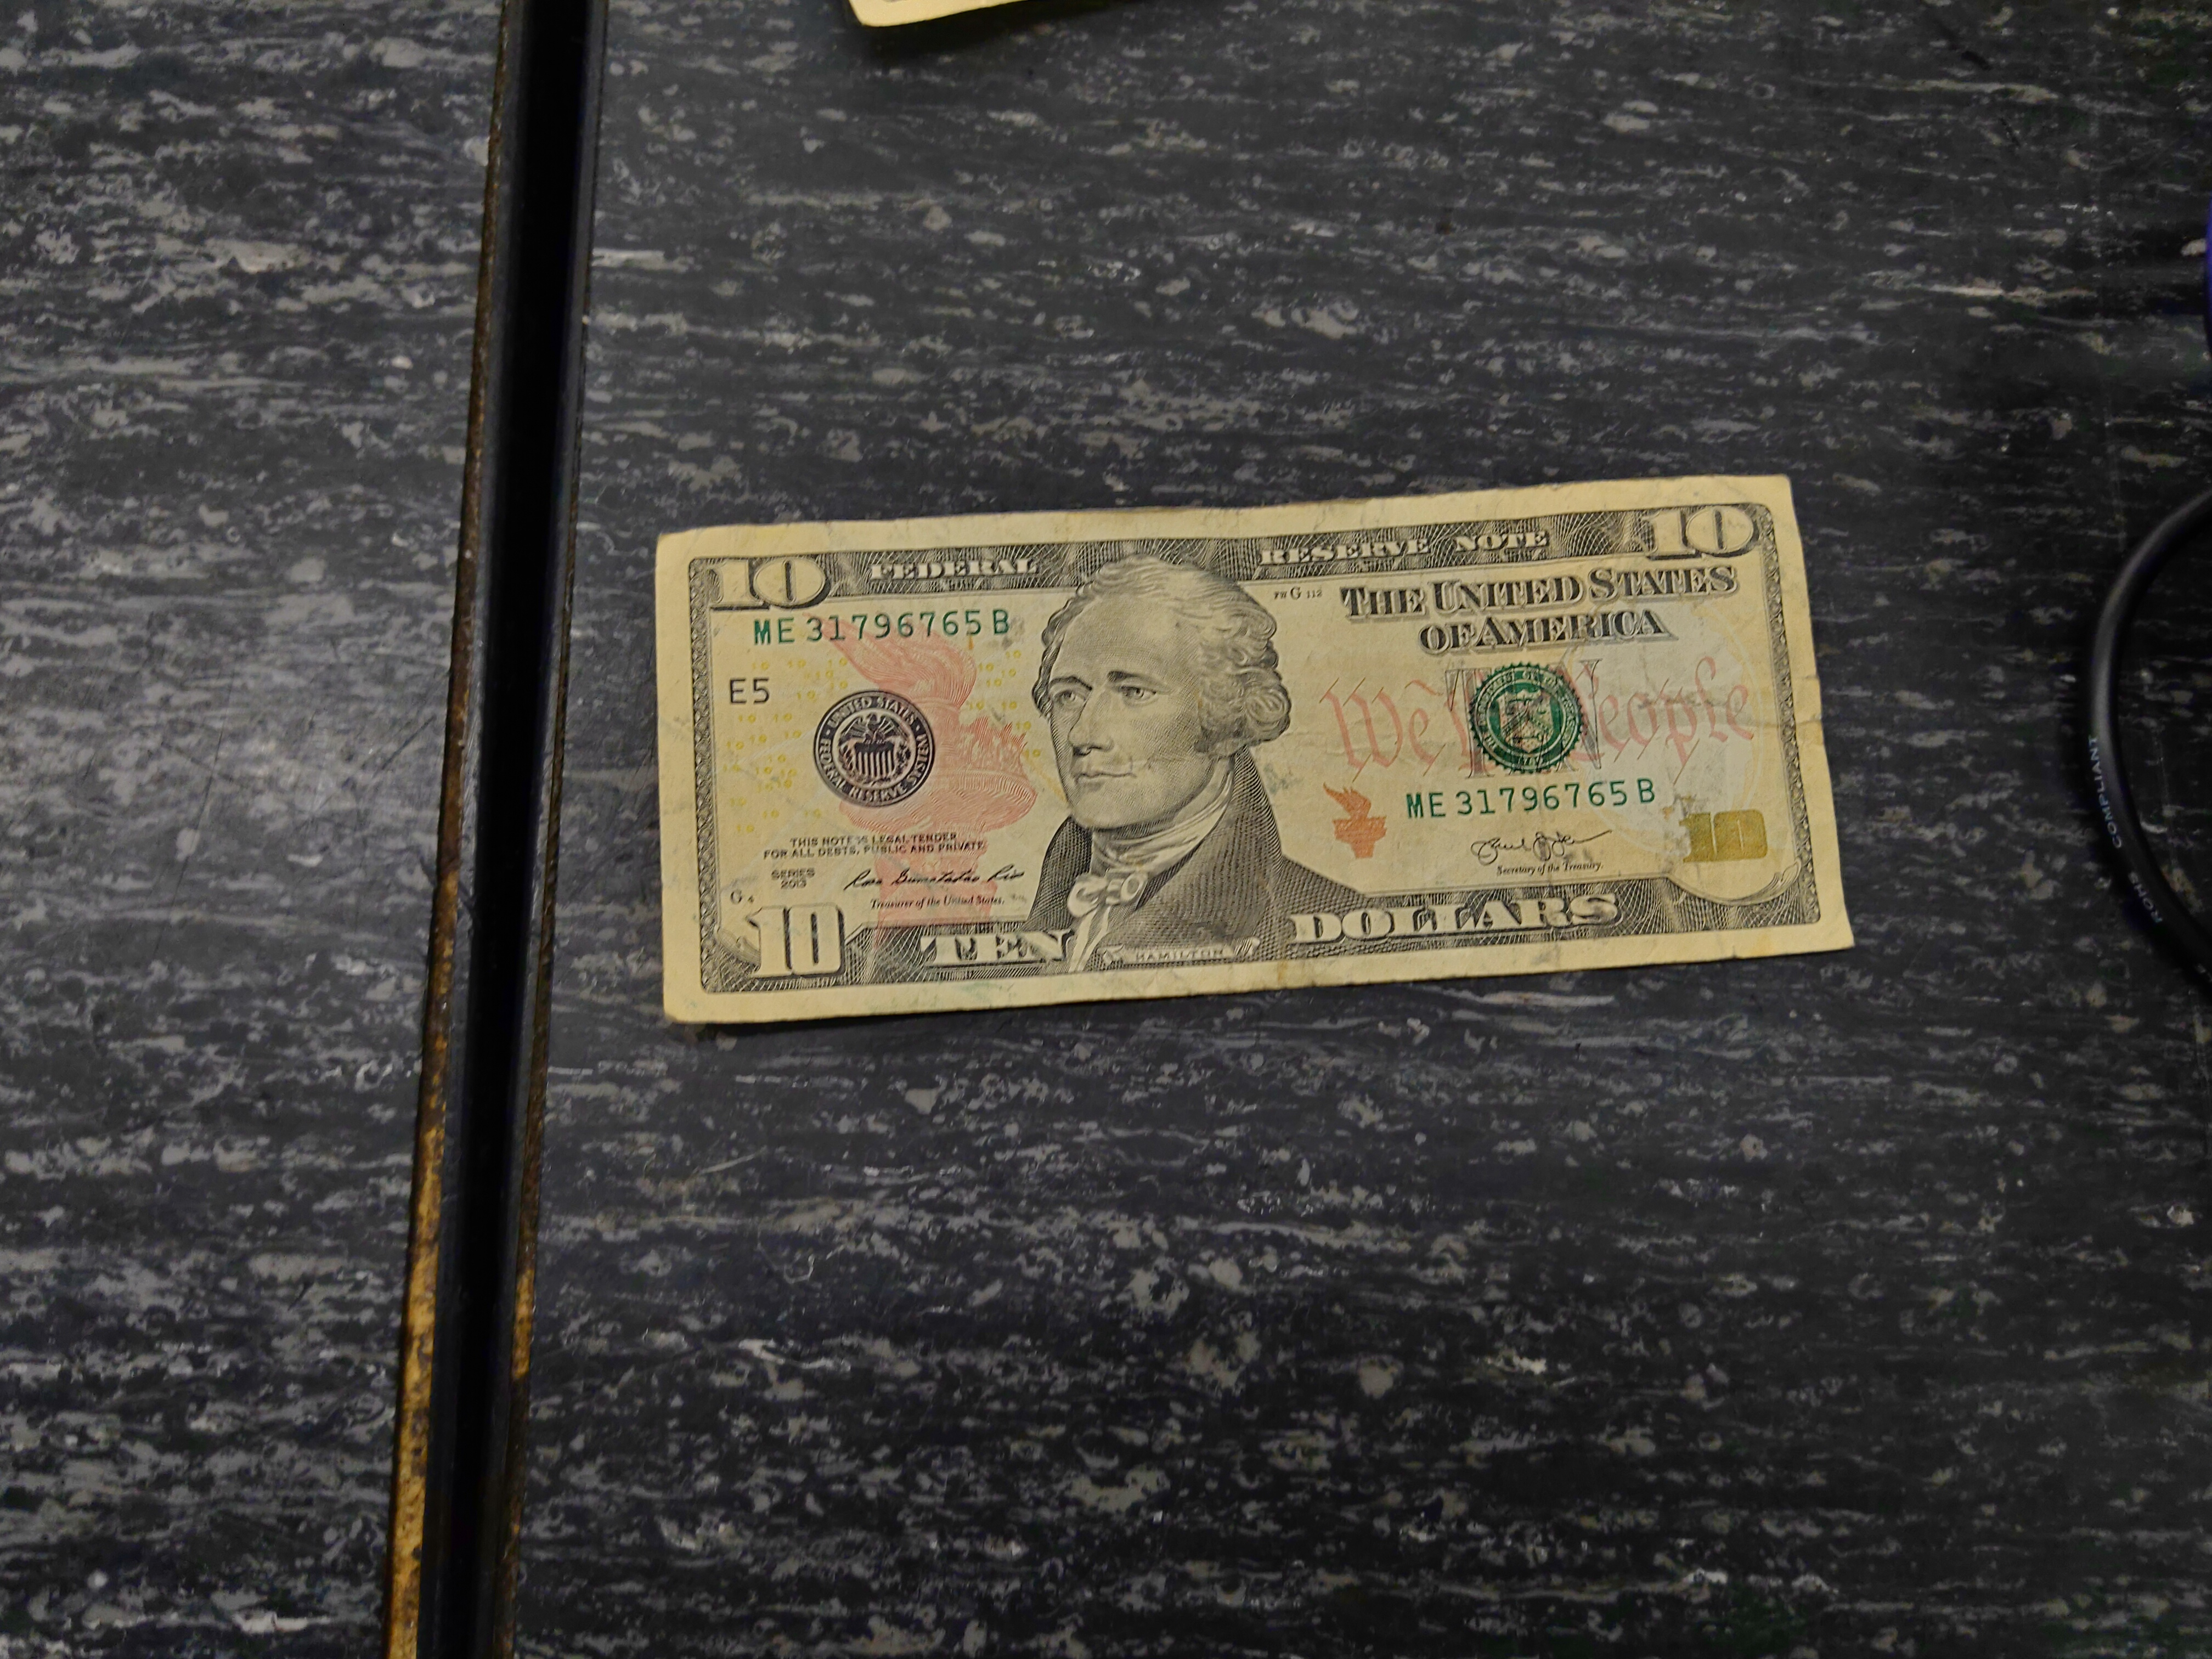TenBill: (653, 471, 1858, 1026)
